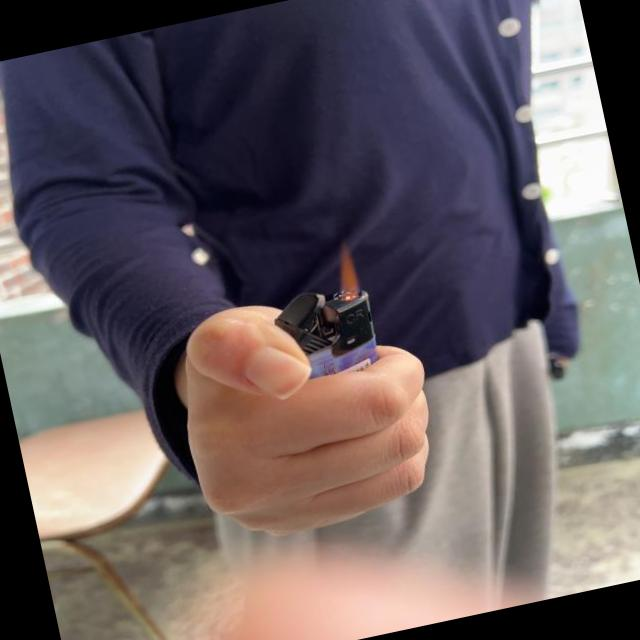Fire: (327, 242, 366, 302)
